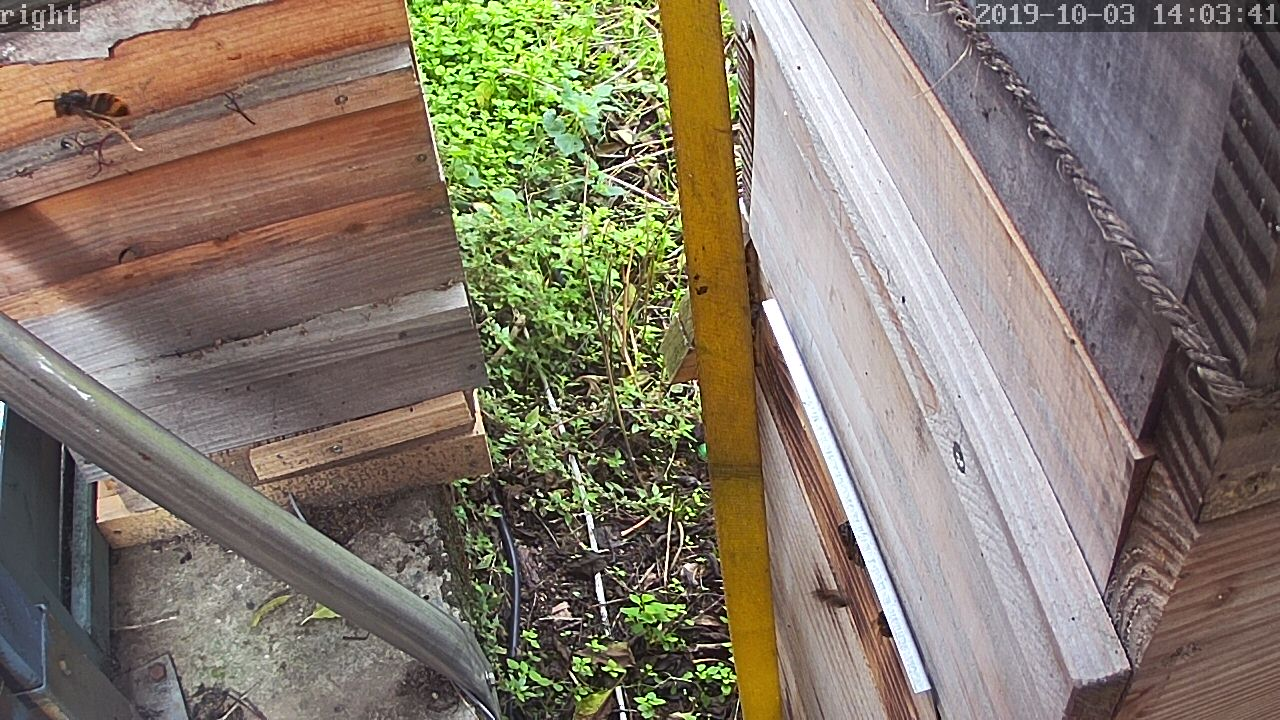bee: (808, 578, 856, 615), (831, 520, 864, 565), (871, 607, 895, 643)
hornet: (32, 86, 151, 127)
